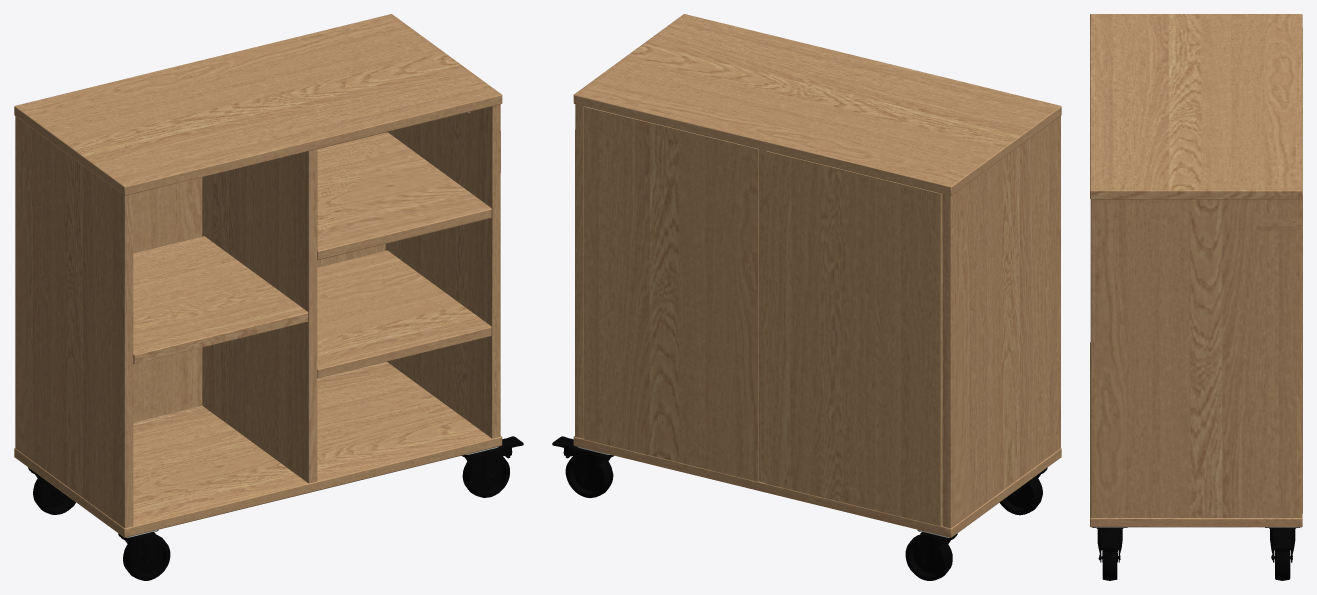
Rendered from RÅVAROR shelf unit on casters - oak veneer (50454507).glb.
The picture shows the model from 3 angles, left to right: view 1: azimuth 30°, elevation 25°; view 2: azimuth 150°, elevation 25°; view 3: azimuth 270°, elevation 25°; orthographic projection. The views are drawn at different scales.
Visible parts, largest first — view 1: model; view 2: model; view 3: model.
Part boxes in pixels (left/top/right/bottom): model: left=14, top=14, right=523, bottom=580; model: left=552, top=14, right=1061, bottom=580; model: left=1090, top=14, right=1302, bottom=580.
Bounding box in the file's own units: 0.7177 × 0.6897 × 0.3404.
1 material, 1 textured.
